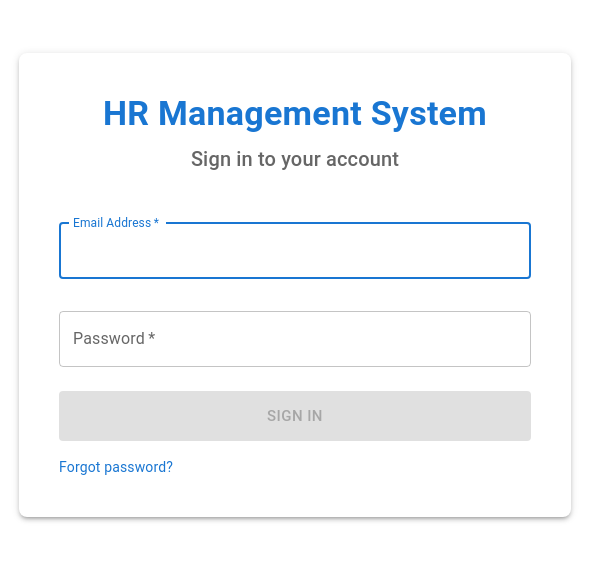
LoginPage › Error Handling › displays error message when login fails
Type "test@example.com" into the field labelled "Email Address *". click: (295, 251)
box: [59,223,531,279]
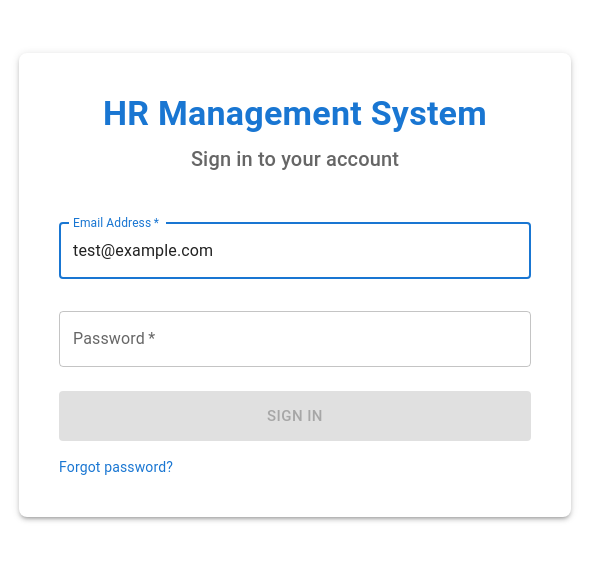
Type "wrongpassword" into the password field labelled "Password *". click: (295, 339)
box: [59,311,531,367]
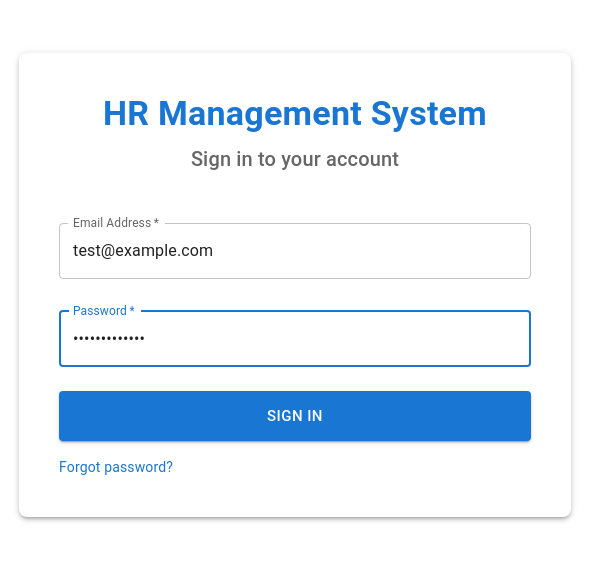
Click the button "Sign In". click: (295, 416)
box: [59,391,531,441]
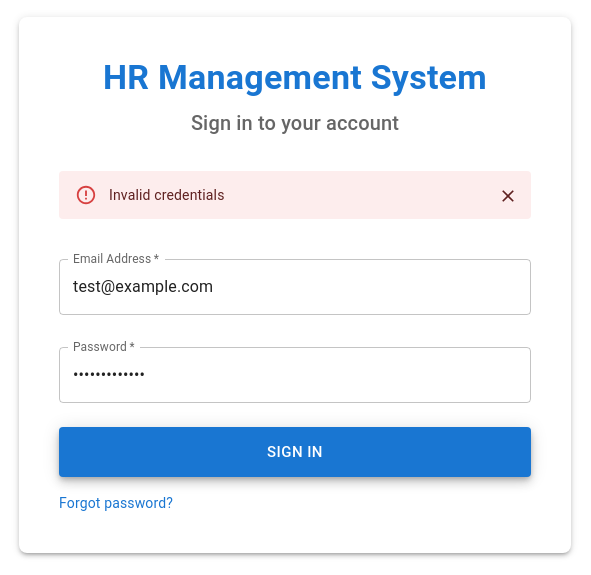
Result: the message "Invalid credentials" is shown at [59,171,531,219]
Result: the text "Invalid credentials" is shown at [109,187,224,203]
